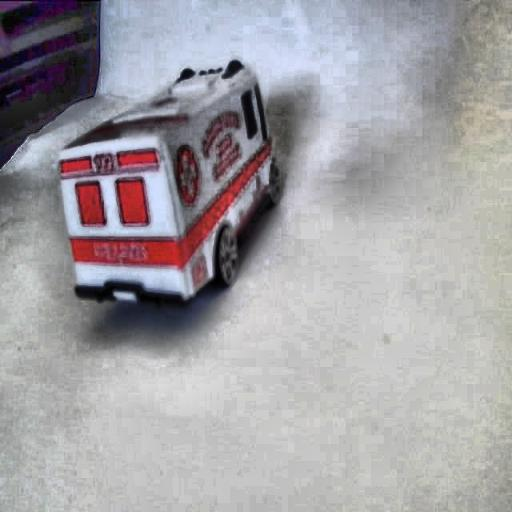ambulance: (58, 58, 280, 306)
